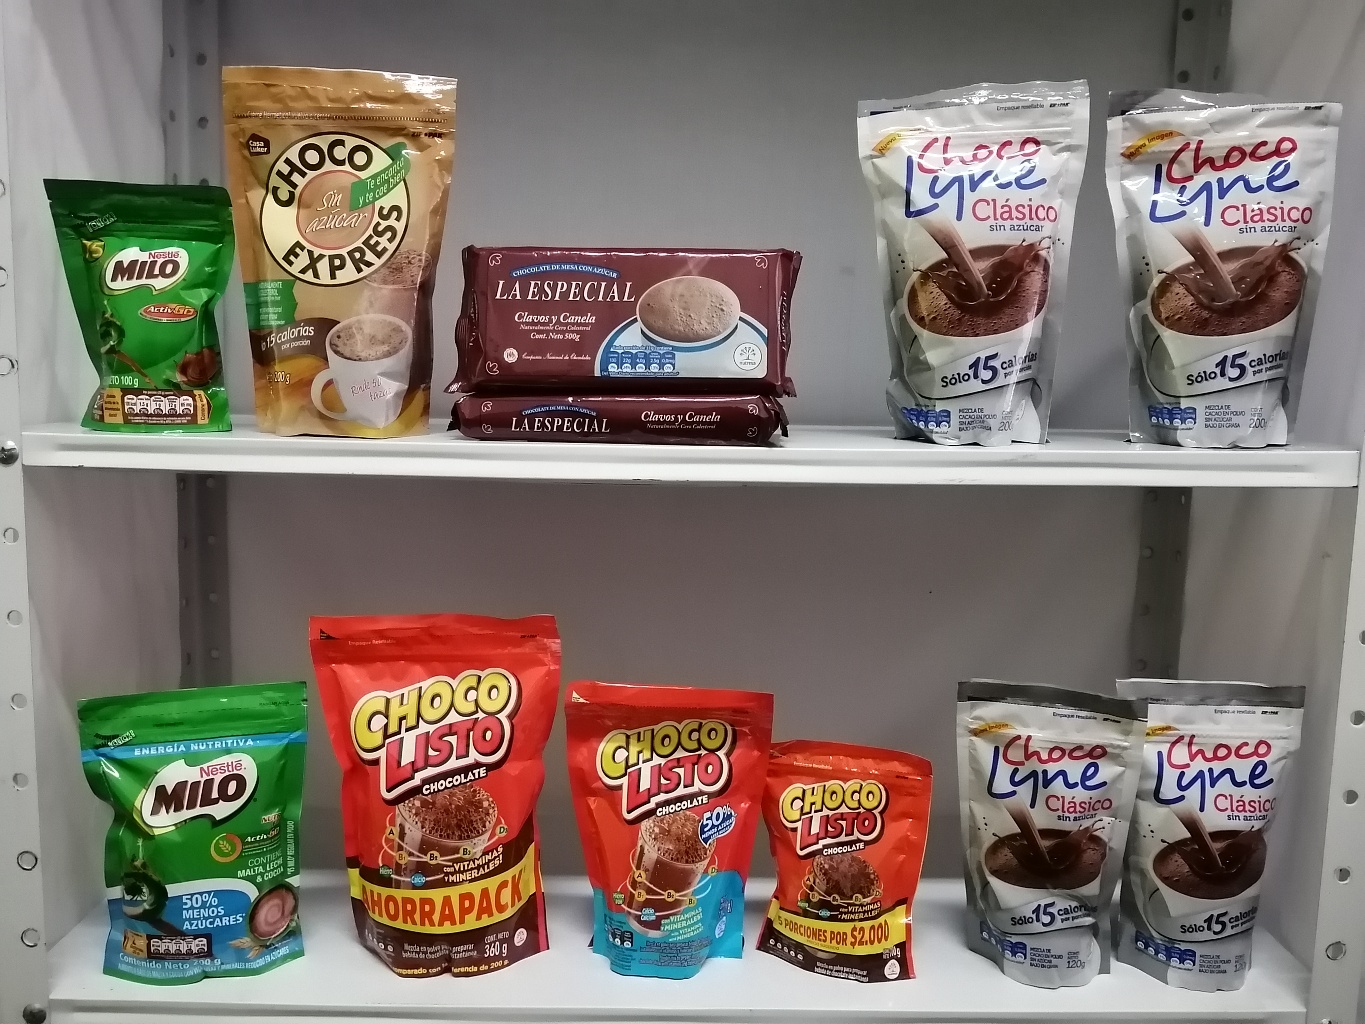COL0170103DYP36000: (307, 605, 573, 980)
COL0170104DYP20000: (564, 671, 779, 989)
COL0170203DYP10000: (39, 168, 236, 432)
COL0170205DYP20000: (67, 670, 311, 995)
